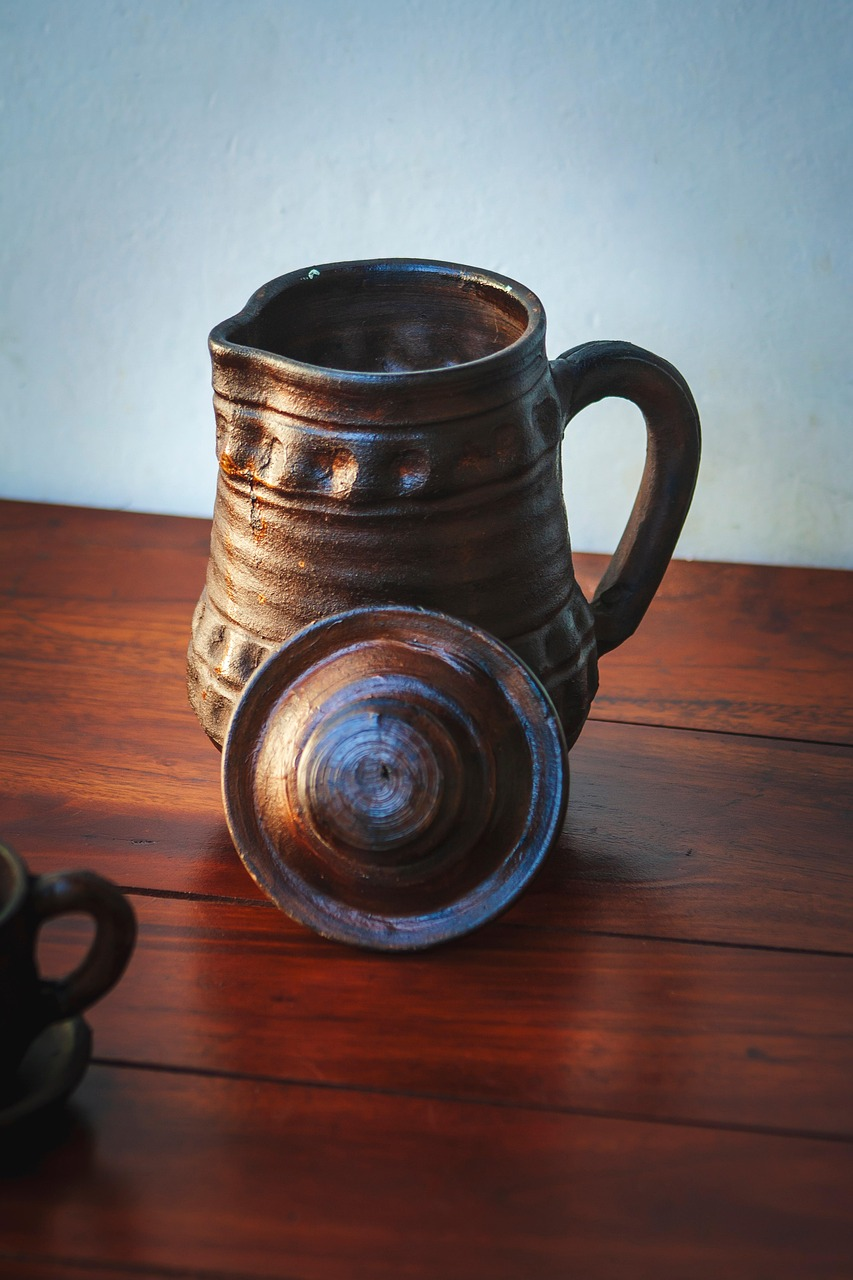mug: (106, 218, 714, 965)
